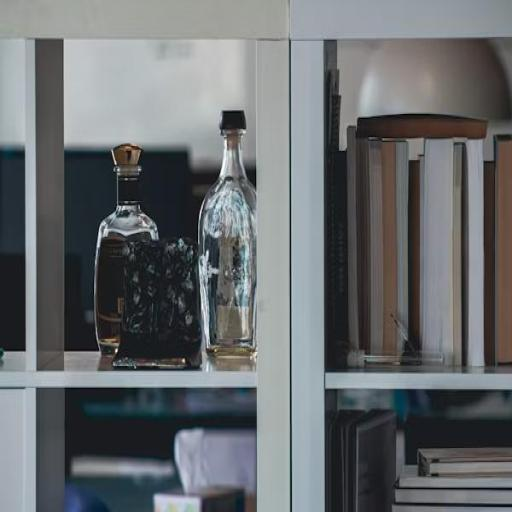bottle: (195, 100, 269, 373), (79, 150, 169, 368)
